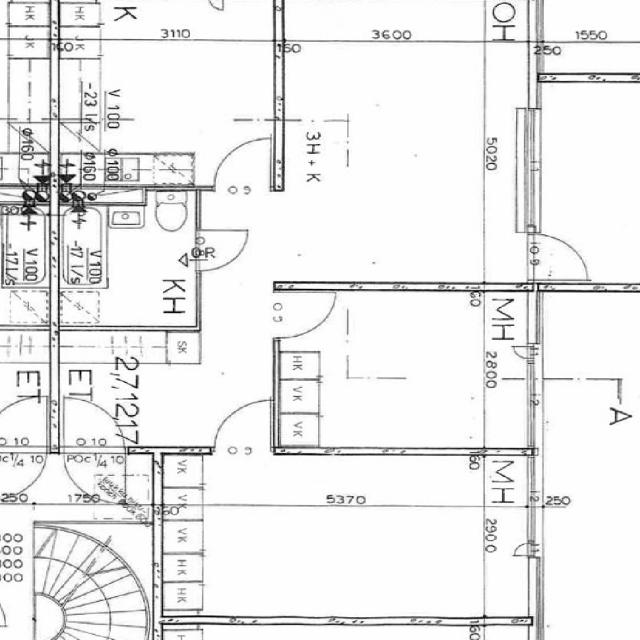door: (64, 396, 125, 453), (64, 446, 125, 503), (528, 234, 596, 280), (214, 401, 270, 453), (274, 292, 334, 338), (215, 140, 270, 190), (197, 231, 250, 272)
